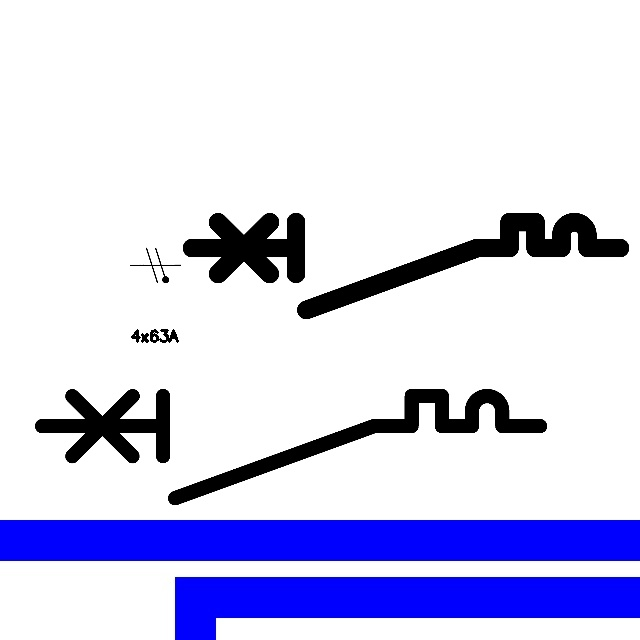interruptor_termomagnetico: (29, 383, 553, 511), (180, 211, 630, 321)
